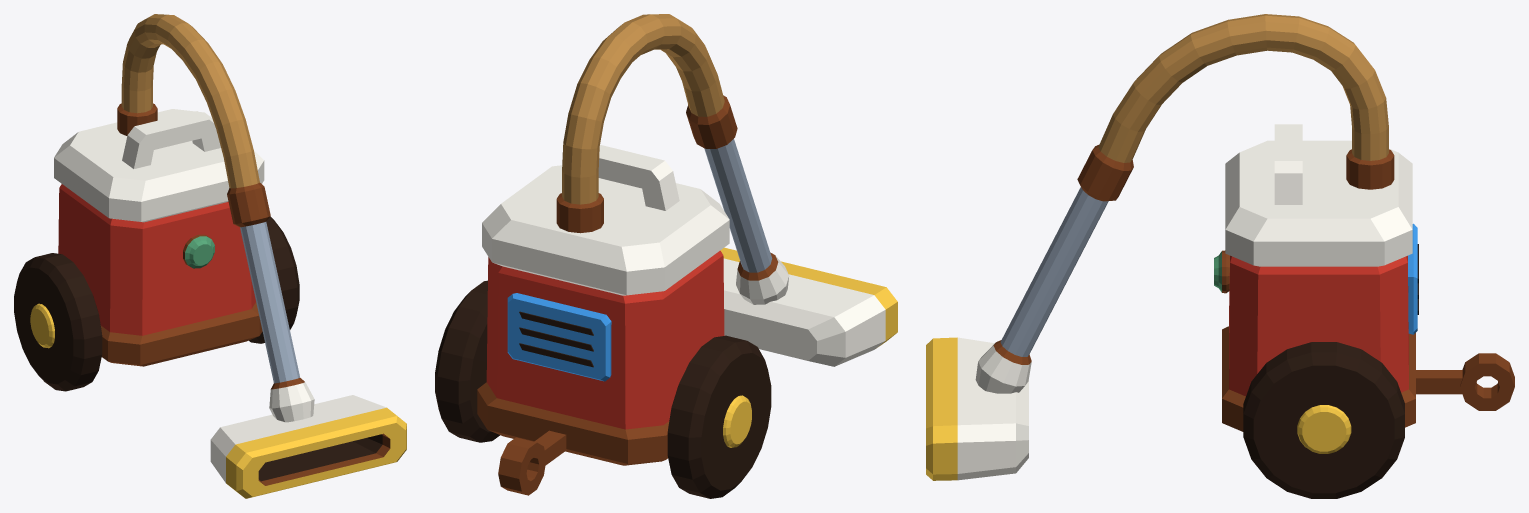
The model's file is SnowVacuum.glb.
The picture shows the model from 3 angles, left to right: view 1: azimuth 30°, elevation 25°; view 2: azimuth 150°, elevation 25°; view 3: azimuth 270°, elevation 25°; orthographic projection. The views are drawn at different scales.
Visible parts, largest first — view 1: SnowVacuum_Canister, SnowVacuum_HoseAndWand, SnowVacuum_Intake, SnowVacuum_WheelL, SnowVacuum_WheelR; view 2: SnowVacuum_Canister, SnowVacuum_HoseAndWand, SnowVacuum_WheelL, SnowVacuum_Intake, SnowVacuum_Exhaust, SnowVacuum_WheelR, SnowVacuum_TowEye; view 3: SnowVacuum_Canister, SnowVacuum_HoseAndWand, SnowVacuum_WheelR, SnowVacuum_Intake, SnowVacuum_TowEye, SnowVacuum_Exhaust.
Part boxes in pixels (bbox=[...]): SnowVacuum_Canister: bbox=[54, 109, 264, 366]; SnowVacuum_HoseAndWand: bbox=[117, 14, 314, 422]; SnowVacuum_Intake: bbox=[210, 395, 406, 498]; SnowVacuum_WheelL: bbox=[14, 253, 102, 391]; SnowVacuum_WheelR: bbox=[249, 216, 299, 343]; SnowVacuum_Canister: bbox=[477, 144, 729, 465]; SnowVacuum_HoseAndWand: bbox=[556, 14, 789, 304]; SnowVacuum_WheelL: bbox=[667, 335, 771, 498]; SnowVacuum_Intake: bbox=[720, 247, 897, 366]; SnowVacuum_Exhaust: bbox=[507, 293, 611, 381]; SnowVacuum_WheelR: bbox=[435, 280, 499, 442]; SnowVacuum_TowEye: bbox=[498, 430, 566, 495]; SnowVacuum_Canister: bbox=[1214, 124, 1415, 431]; SnowVacuum_HoseAndWand: bbox=[975, 14, 1394, 393]; SnowVacuum_WheelR: bbox=[1243, 342, 1404, 498]; SnowVacuum_Intake: bbox=[926, 337, 1028, 480]; SnowVacuum_TowEye: bbox=[1416, 353, 1514, 410]; SnowVacuum_Exhaust: bbox=[1408, 223, 1418, 334].
Size of the model in its own units: 0.7689 by 1.11 by 1.41.
Materials: 1 (1 with a texture image).
